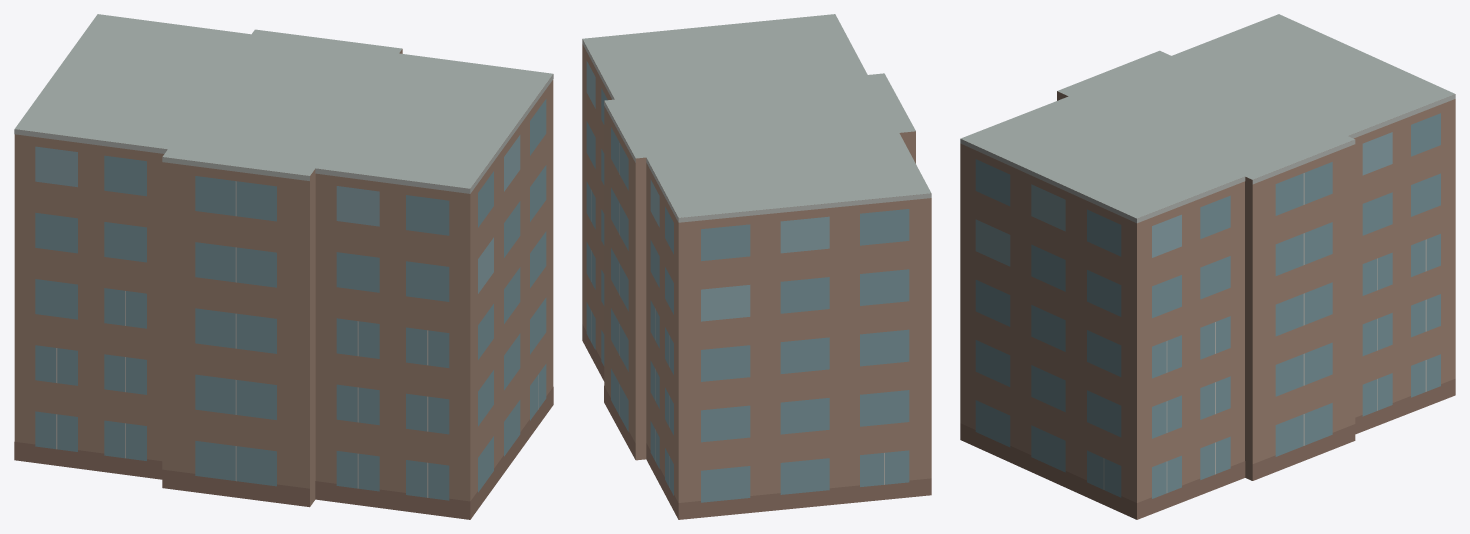
Rendered from survey-upis-32578255.glb.
The picture shows the model from 3 angles, left to right: view 1: azimuth 30°, elevation 25°; view 2: azimuth 150°, elevation 25°; view 3: azimuth 270°, elevation 25°; orthographic projection. The views are drawn at different scales.
Visible parts, largest first — view 1: survey-upis-32578255.tmp; view 2: survey-upis-32578255.tmp; view 3: survey-upis-32578255.tmp.
Part boxes in pixels (x1=…): survey-upis-32578255.tmp: x1=14, y1=14, x2=553, y2=519; survey-upis-32578255.tmp: x1=582, y1=14, x2=931, y2=519; survey-upis-32578255.tmp: x1=960, y1=14, x2=1455, y2=519.
Bounding box in the file's own units: 22.74 × 15.6 × 23.26.
